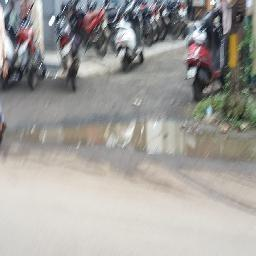water accumulation: (5, 117, 256, 163)
